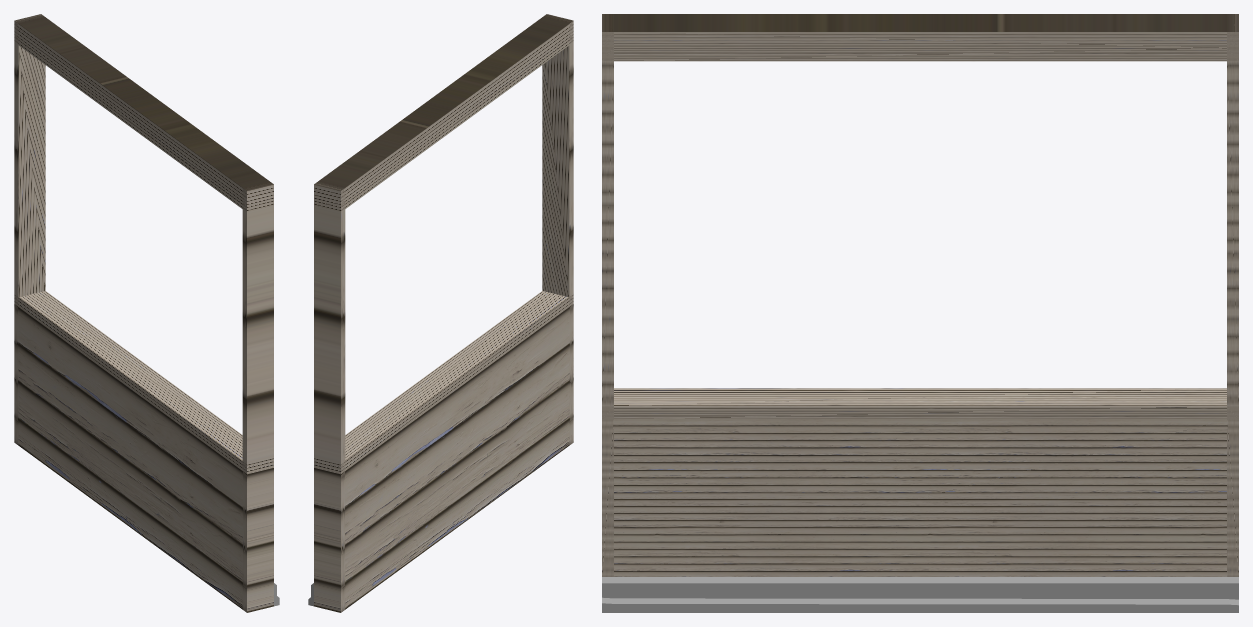
The model's file is WallWindow.fbx.
3 views of the same model, side by side, from view 1: azimuth 30°, elevation 25°; view 2: azimuth 150°, elevation 25°; view 3: azimuth 270°, elevation 25° (orthographic). The views are drawn at different scales.
Visible parts, largest first — view 1: pCube1; view 2: pCube1; view 3: pCube1.
Boxes of the visible parts, x1=… form: pCube1: x1=14, y1=14, x2=279, y2=612; pCube1: x1=308, y1=14, x2=573, y2=612; pCube1: x1=602, y1=14, x2=1238, y2=612.
Bounding box in the file's own units: 0.2421 × 3 × 3.
